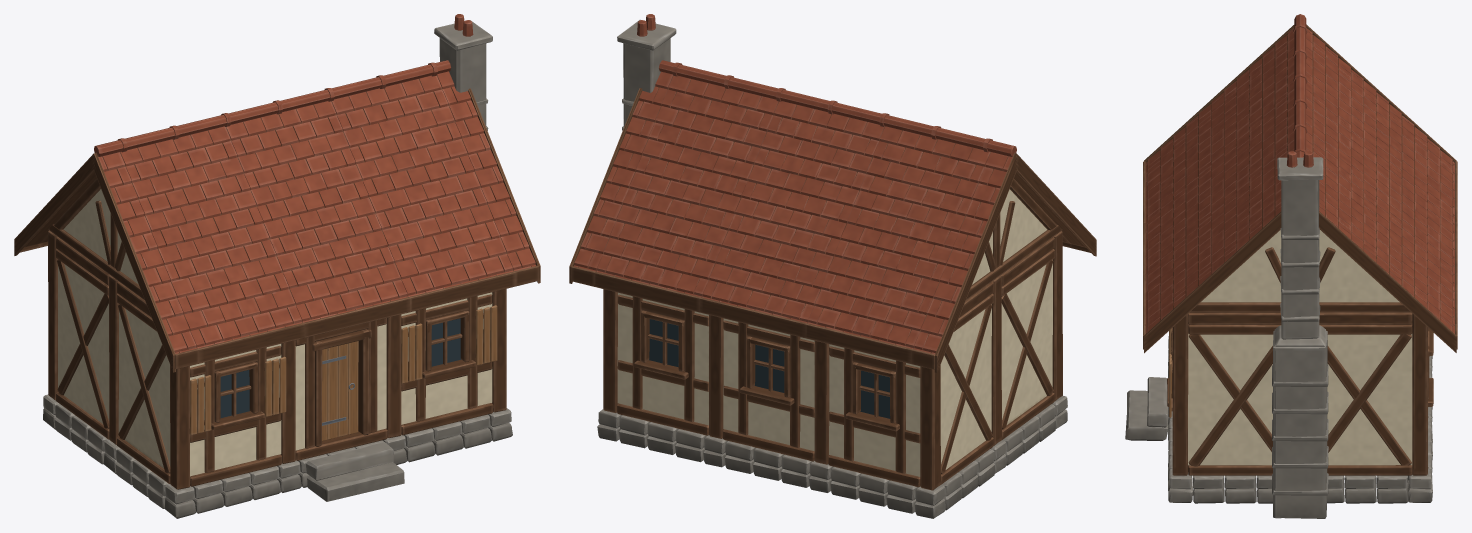
The model's file is house_cottage_godot.glb.
3 renders of one model, left to right at view 1: azimuth 30°, elevation 25°; view 2: azimuth 150°, elevation 25°; view 3: azimuth 270°, elevation 25°, orthographic.
Visible parts, largest first — view 1: house_cottage_static; view 2: house_cottage_static; view 3: house_cottage_static.
Part boxes in pixels (bbox=[...]): house_cottage_static: bbox=[14, 14, 540, 518]; house_cottage_static: bbox=[569, 14, 1096, 518]; house_cottage_static: bbox=[1125, 14, 1457, 518].
Size of what is drawn, in the model's own units: 7.36 by 6.62 by 5.55.
7 materials, 7 textured.
